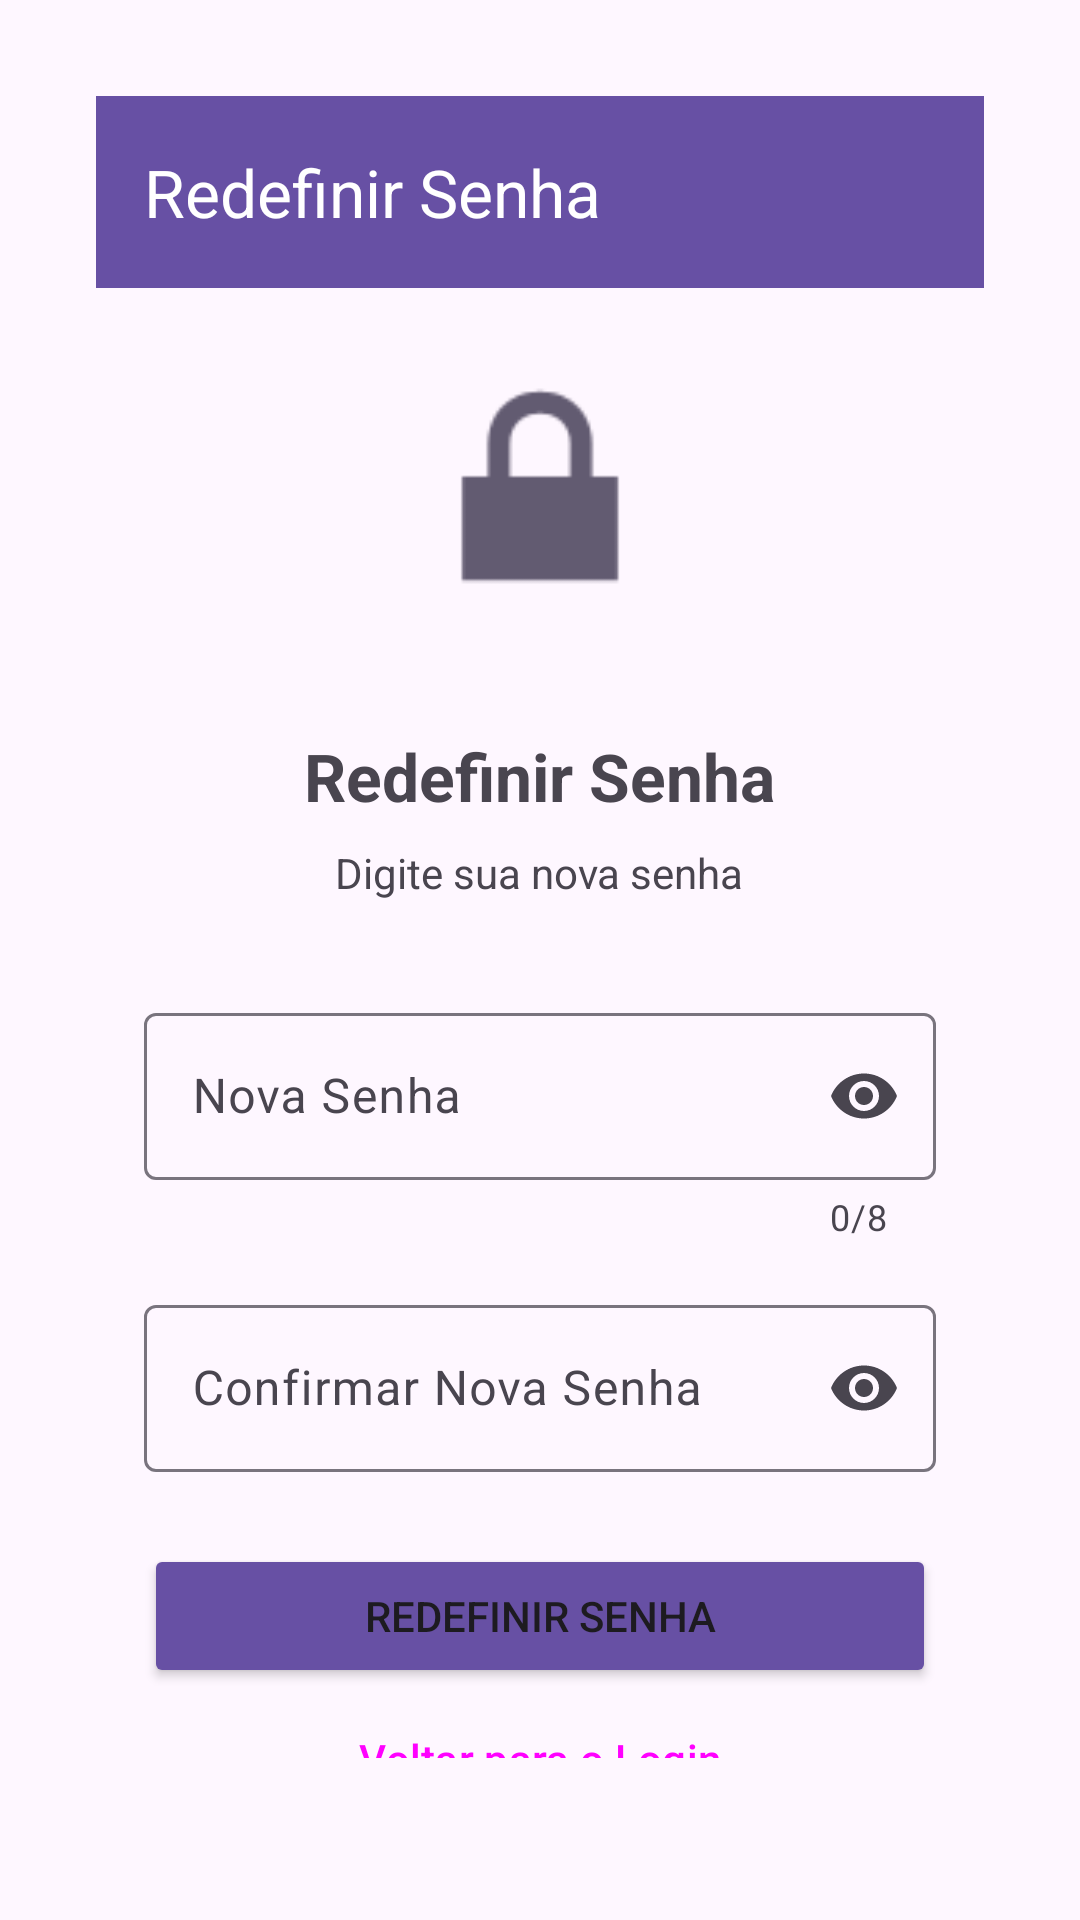

Where icons sit on this 1080px×1920px app screen, as (x1=x1, y1=y1, x2=x2, y2=y2):
lock: (x1=461, y1=390, x2=619, y2=582)
